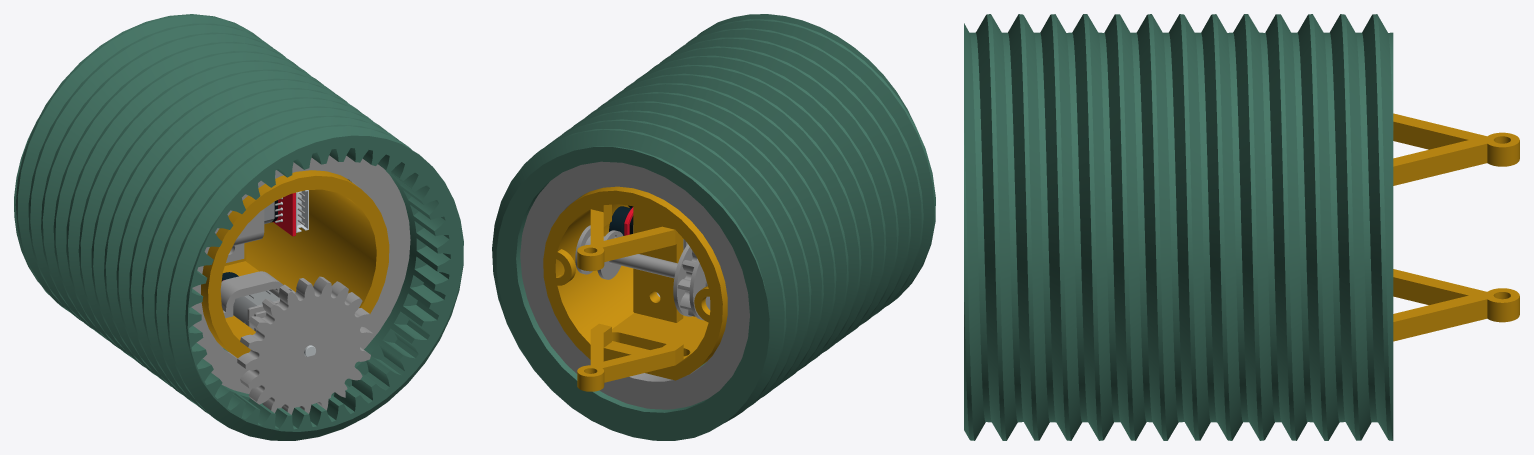
File: NEW_TESTER_REV_B .obj
3 views of the same model, side by side, from view 1: azimuth 30°, elevation 25°; view 2: azimuth 150°, elevation 25°; view 3: azimuth 270°, elevation 25° (orthographic). The views are drawn at different scales.
Parts seen in each view (by area): view 1: TEST_IT, D-TUBE, Body1:1, Body1:3, Body1:6, Body1:7, Body26, Body3:1, Body4:1; view 2: TEST_IT, D-TUBE, Body1:2, Body1:8, Shaft, Body1:9; view 3: TEST_IT, D-TUBE.
Boxes of the visible parts, bbox=[...] form: TEST_IT: bbox=[14, 14, 463, 440]; D-TUBE: bbox=[201, 170, 389, 358]; Body1:1: bbox=[237, 276, 373, 414]; Body1:3: bbox=[191, 155, 410, 393]; Body1:6: bbox=[220, 271, 295, 318]; Body1:7: bbox=[226, 209, 264, 262]; Body26: bbox=[233, 290, 279, 325]; Body3:1: bbox=[273, 192, 295, 236]; Body4:1: bbox=[296, 190, 308, 232]; TEST_IT: bbox=[492, 14, 935, 440]; D-TUBE: bbox=[543, 186, 727, 391]; Body1:2: bbox=[520, 161, 749, 409]; Body1:8: bbox=[673, 244, 710, 320]; Shaft: bbox=[609, 254, 677, 278]; Body1:9: bbox=[575, 225, 623, 279]; TEST_IT: bbox=[964, 14, 1393, 440]; D-TUBE: bbox=[1393, 113, 1519, 341].
Size of the model in its own units: 79.61 by 79.62 by 104.
